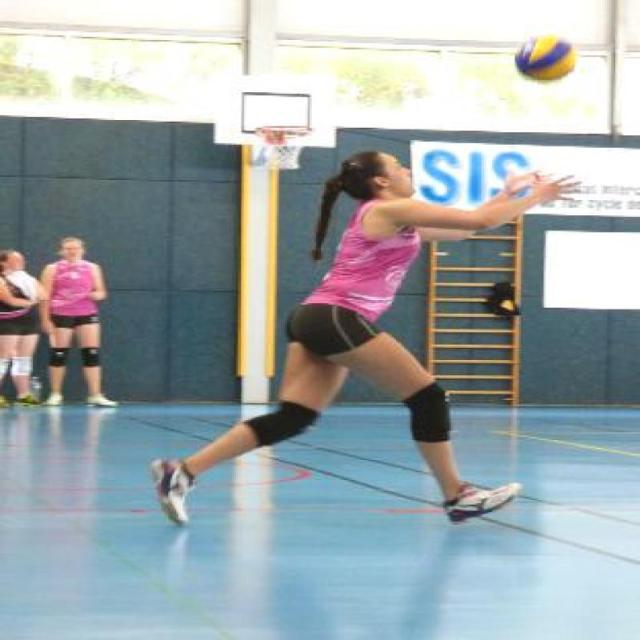volleyball: (513, 30, 574, 80)
